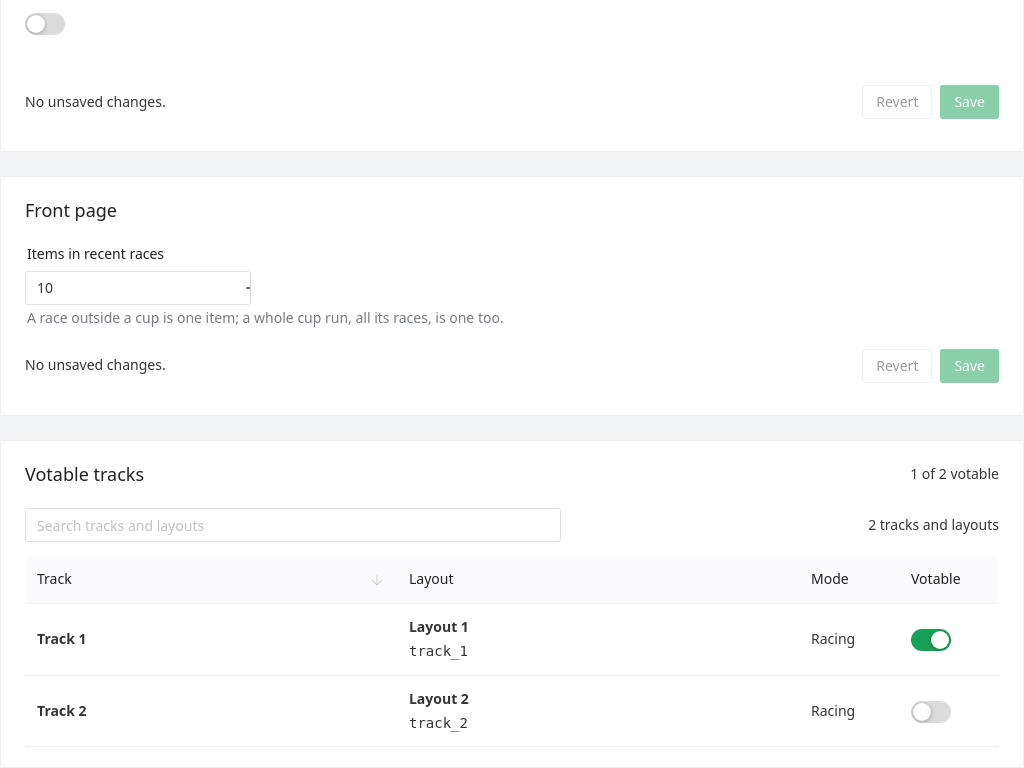
it: SettingsView › switches voting for a track, and keeps the old state when that fails
(page scrolled)
Click the switch named "Votable: Track 2 - Layout 2": (931, 712) x1=911 y1=701 x2=951 y2=723
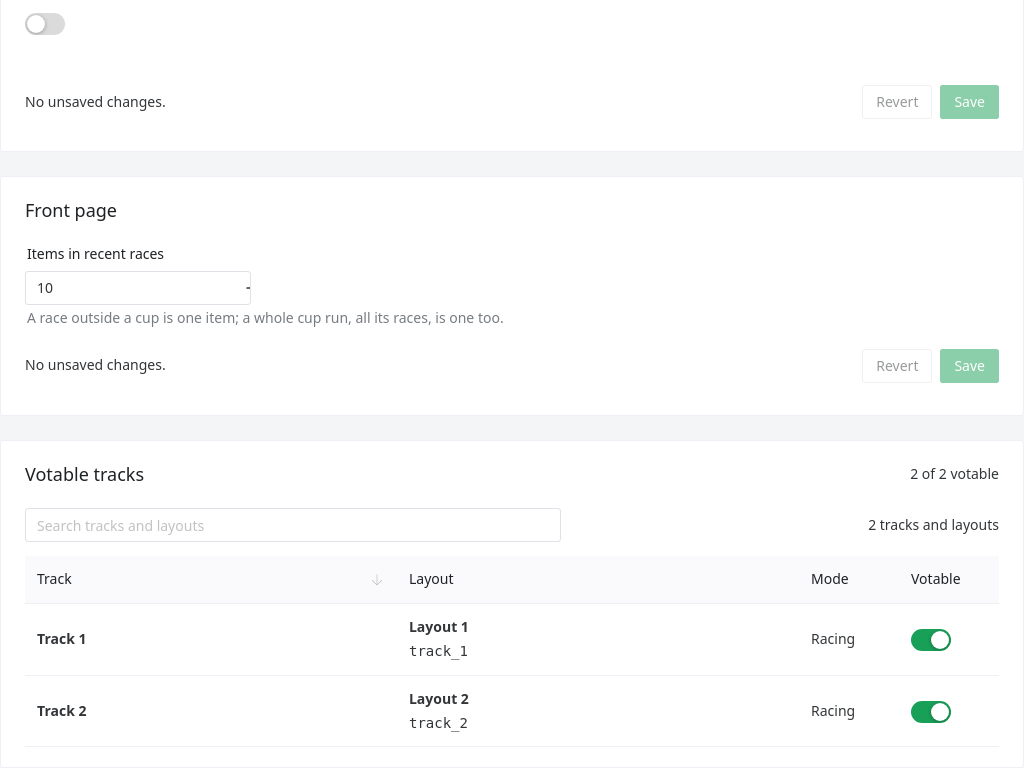
Check: the text "2 of 2 votable" is shown, box x1=910 y1=463 x2=999 y2=485
Click the switch named "Votable: Track 1 - Layout 1": (931, 640) x1=911 y1=629 x2=951 y2=651
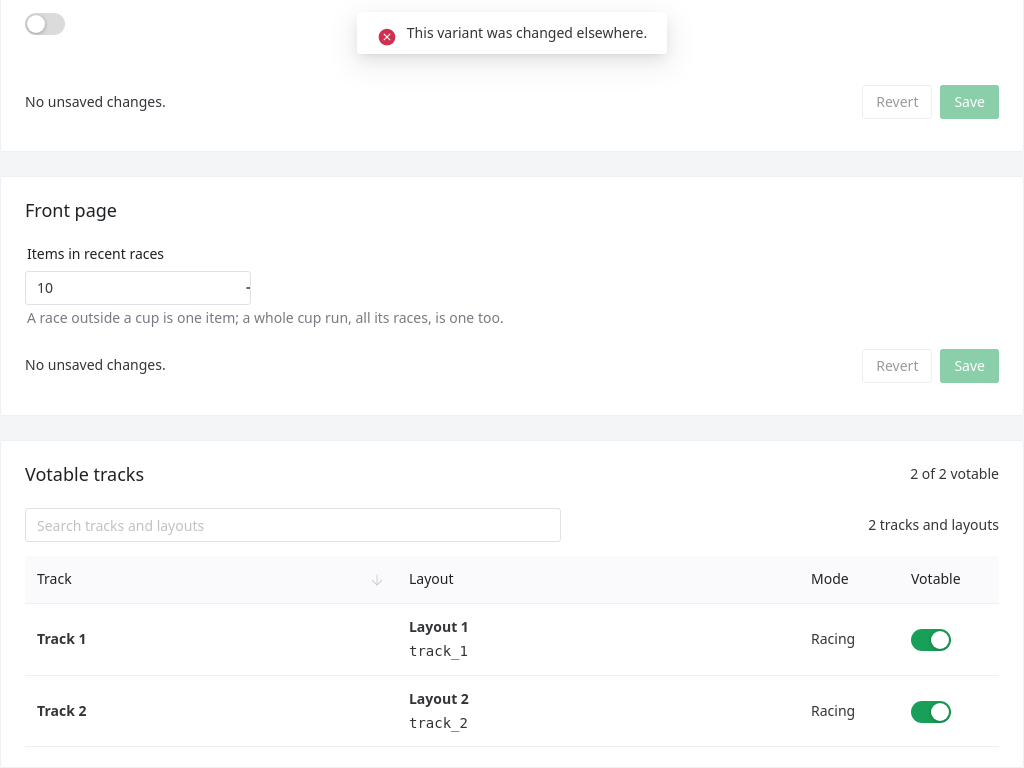
Check: the text "2 of 2 votable" is shown, box x1=910 y1=463 x2=999 y2=485
Check: the text "This variant was changed elsewhere." is shown, box x1=407 y1=22 x2=647 y2=44
